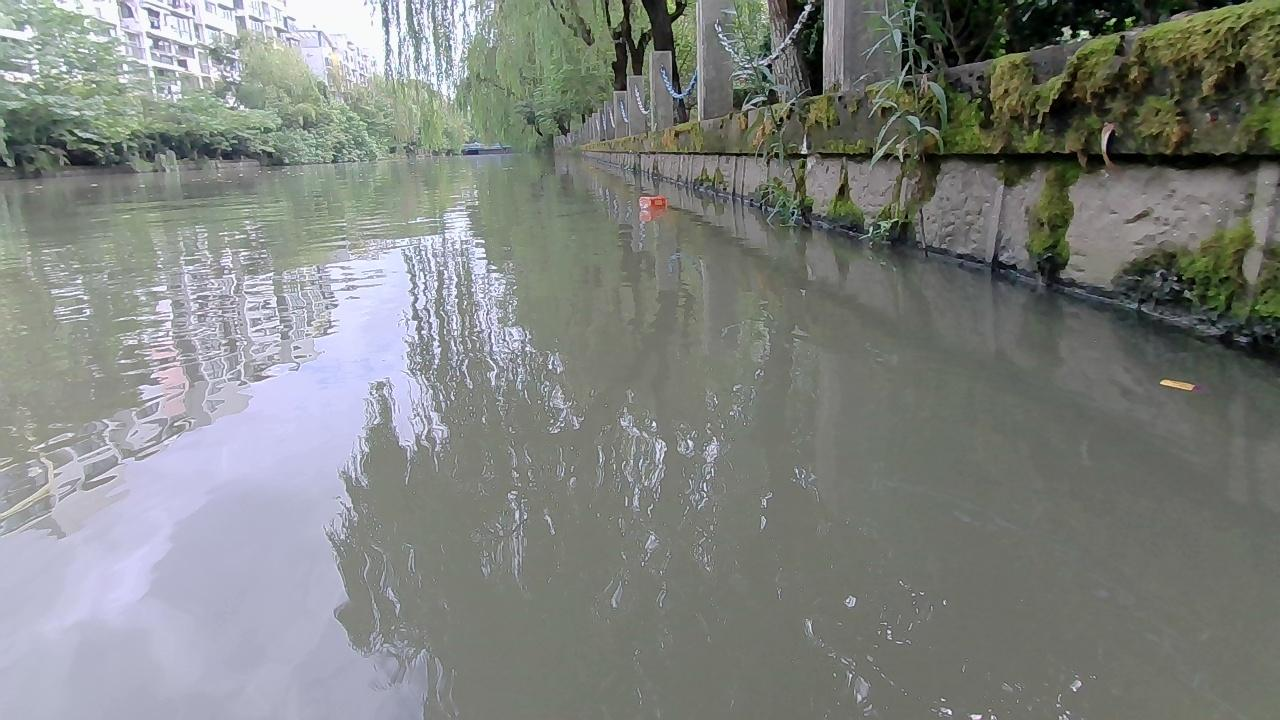bottle: (638, 194, 666, 207)
